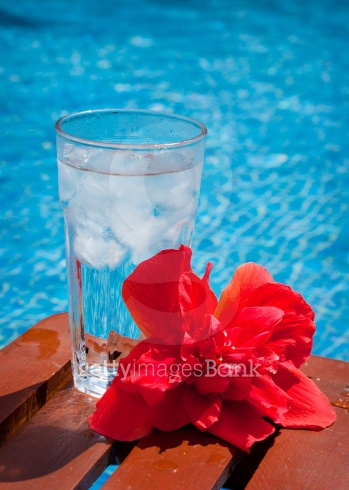glass of water: (51, 106, 217, 402)
